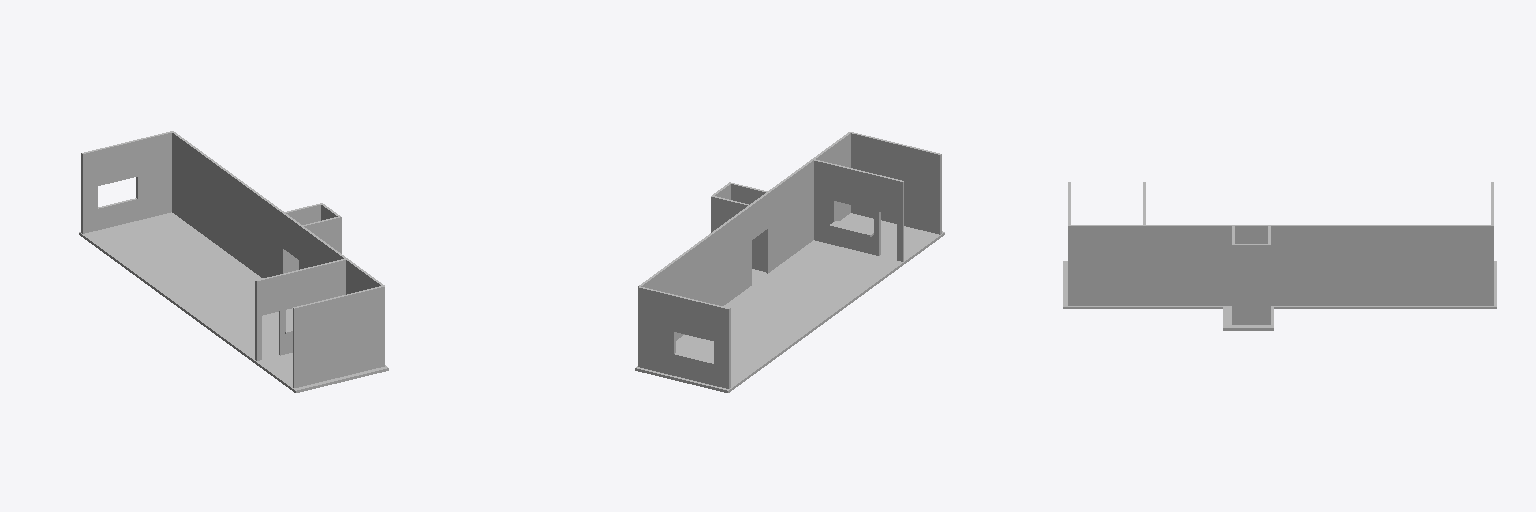
Rendered from Estructura_002.obj.
3 views of the same model, side by side, from view 1: azimuth 30°, elevation 25°; view 2: azimuth 150°, elevation 25°; view 3: azimuth 270°, elevation 25° (orthographic).
Parts seen in each view (by area): view 1: polySurface1 pCube25, pCube3, pCube4, pCube5, pCube6, pCube8, pCube9; view 2: polySurface1 pCube25, pCube3, pCube5, pCube6, pCube4, pCube8, pCube9; view 3: pCube3, pCube10, polySurface1 pCube25, pCube11.
Part boxes in pixels (x1,y1,x2,y2): polySurface1 pCube25: (79, 212, 388, 392); pCube3: (172, 132, 384, 294); pCube4: (293, 286, 384, 387); pCube5: (81, 131, 173, 233); pCube6: (255, 258, 346, 360); pCube8: (303, 216, 341, 253); pCube9: (284, 203, 322, 272); polySurface1 pCube25: (635, 213, 944, 392); pCube3: (638, 132, 850, 340); pCube5: (638, 286, 730, 388); pCube6: (813, 159, 903, 261); pCube4: (849, 132, 941, 234); pCube8: (730, 182, 767, 271); pCube9: (711, 195, 750, 232); pCube3: (1070, 225, 1491, 305); pCube10: (1233, 244, 1269, 324); polySurface1 pCube25: (1063, 261, 1496, 308); pCube11: (1223, 306, 1273, 330).
Size of the model in its own units: 6.3 by 3.61 by 17.2.